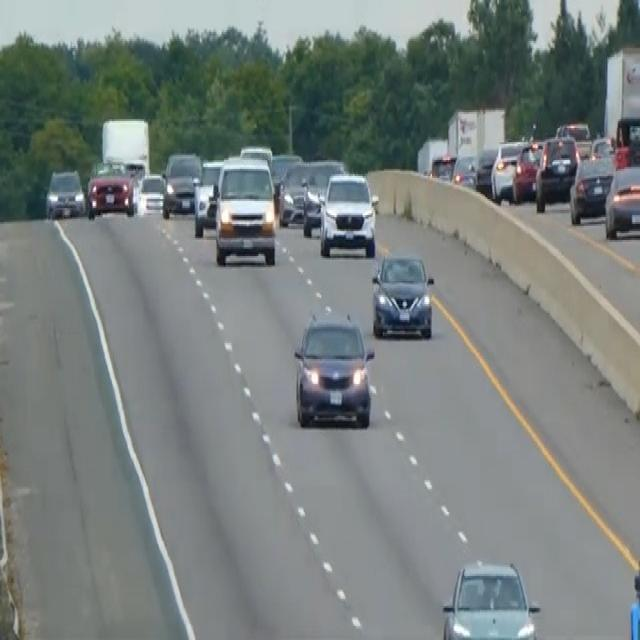car: (440, 556, 541, 638), (370, 249, 435, 339), (318, 169, 377, 258), (534, 132, 579, 212), (568, 151, 614, 224), (86, 156, 136, 218), (161, 149, 202, 217), (301, 166, 340, 237), (604, 160, 639, 238), (490, 137, 528, 203), (192, 156, 223, 236), (278, 158, 313, 224), (44, 165, 85, 219), (511, 138, 544, 202), (555, 119, 593, 158), (614, 112, 639, 165), (136, 171, 165, 215), (474, 144, 497, 196), (450, 151, 477, 189), (429, 151, 456, 181), (239, 142, 272, 166)
lorry: (100, 114, 151, 178)
minivan: (291, 308, 376, 430), (211, 153, 279, 267)
